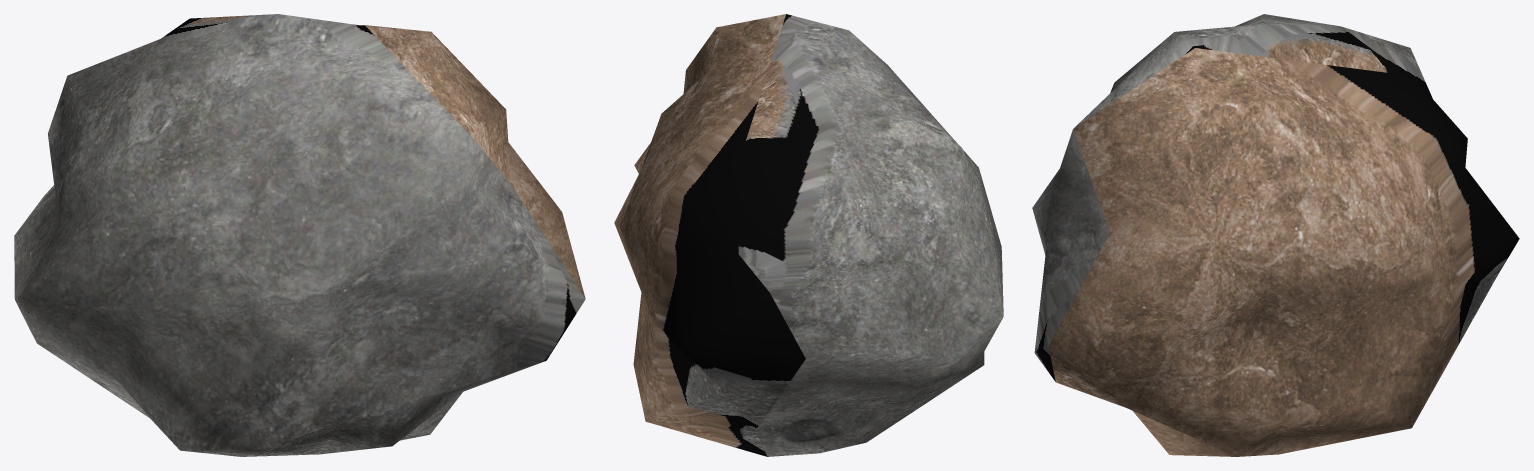
Rendered from asteroid2.fbx.
3 views of the same model, side by side, from view 1: azimuth 30°, elevation 25°; view 2: azimuth 150°, elevation 25°; view 3: azimuth 270°, elevation 25° (orthographic). The views are drawn at different scales.
Visible parts, largest first — view 1: PipelineFBX; view 2: PipelineFBX; view 3: PipelineFBX.
Part boxes in pixels (bbox=[...]): PipelineFBX: bbox=[14, 14, 585, 456]; PipelineFBX: bbox=[614, 14, 1003, 456]; PipelineFBX: bbox=[1032, 14, 1519, 456].
Size of the model in its own units: 94.55 by 84.96 by 93.52.
Materials: 1 (1 with a texture image).
